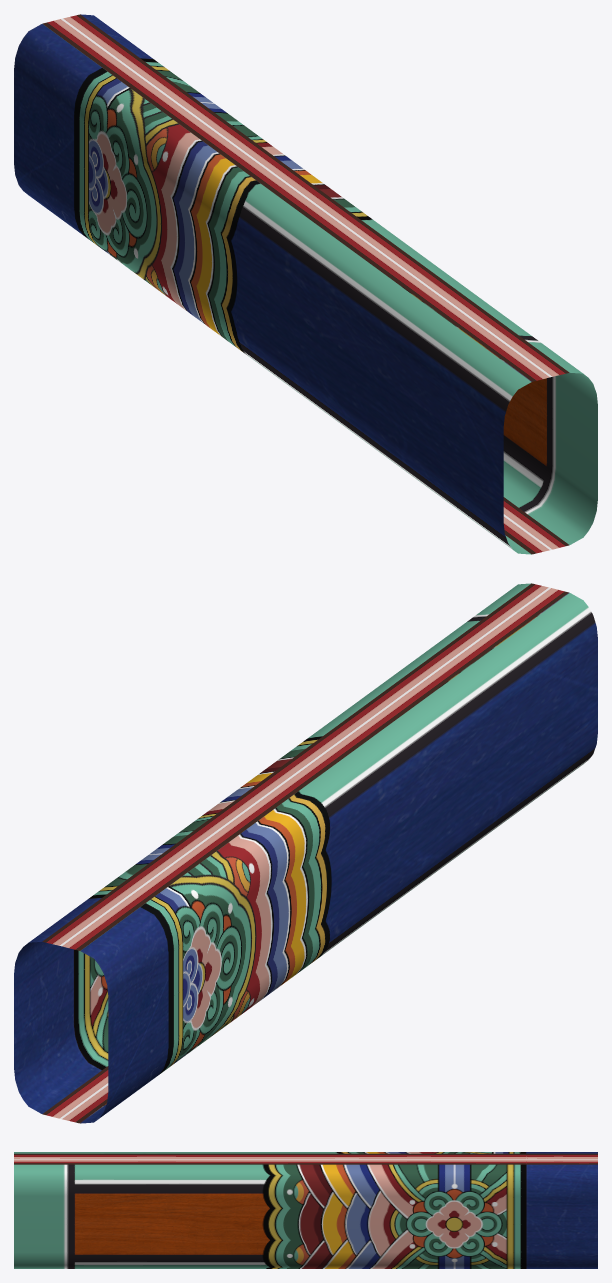
The model's file is SM_Beam08T.fbx.
3 renders of one model, top to bottom at view 1: azimuth 30°, elevation 25°; view 2: azimuth 150°, elevation 25°; view 3: azimuth 270°, elevation 25°, orthographic. The views are drawn at different scales.
Parts seen in each view (by area): view 1: SM_Beam08T; view 2: SM_Beam08T; view 3: SM_Beam08T.
Part boxes in pixels (left/top/right/bottom): SM_Beam08T: left=14, top=14, right=597, bottom=554; SM_Beam08T: left=14, top=583, right=597, bottom=1123; SM_Beam08T: left=14, top=1152, right=597, bottom=1268.
Size of the model in its own units: 16.7 by 150 by 29.22.
